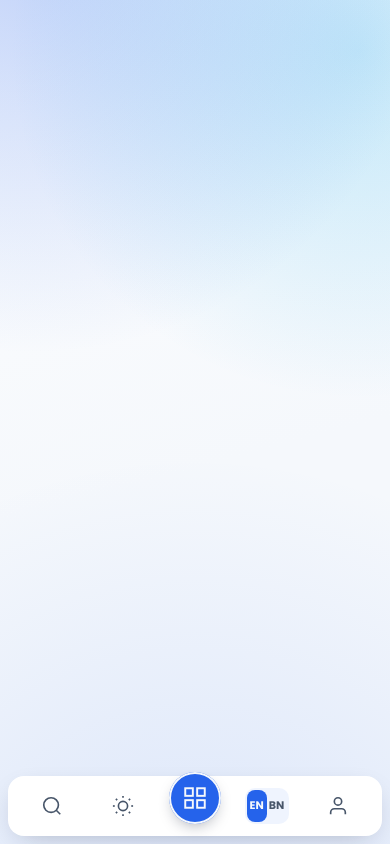
keeps the icon-only dock accessible in en
Expected: the link named "Search" is empty, [41, 795, 63, 817]
Expected: the link named "All services" is empty, [169, 772, 221, 824]
What coordinates should you click on to do the following:
click the button named "Theme"
I would click on:
 (123, 806)
Its box is [88, 782, 159, 830].
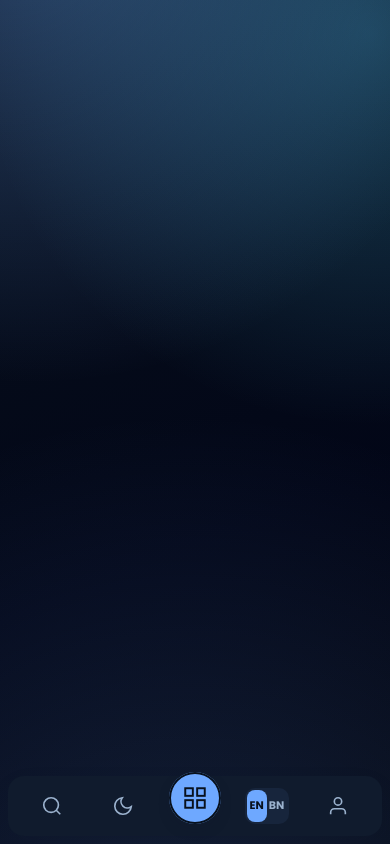
Expected: the button named "Theme" is pressed, [88, 782, 159, 830]
What coordinates should you click on to do the following:
click the button named "Profile"
I would click on:
 (338, 806)
Its box is [302, 782, 374, 830].
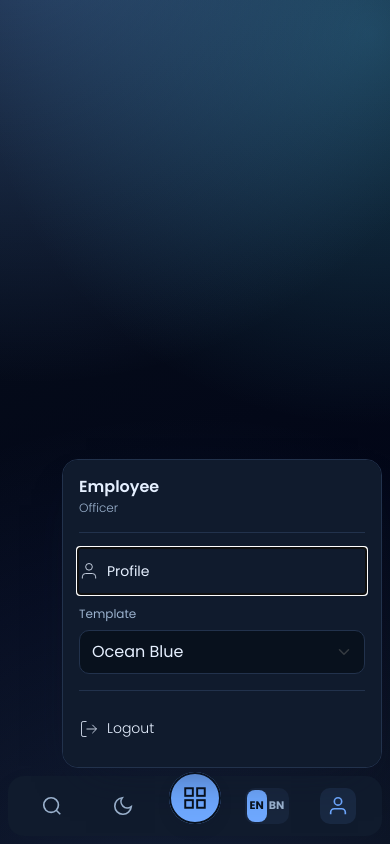
Expected: the button named "Profile" is expanded, [302, 782, 374, 830]
What coordinates should you click on to do the following:
click the link "Profile"
I would click on:
 (114, 571)
Its box is [79, 561, 150, 582].
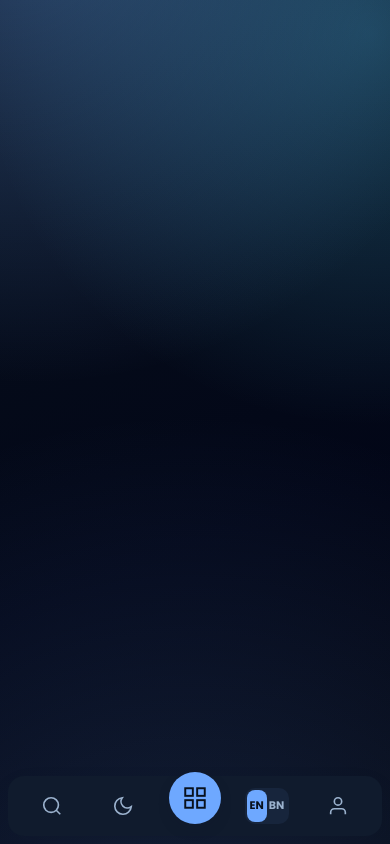
Expected: the button named "Profile" is collapsed, [302, 782, 374, 830]
